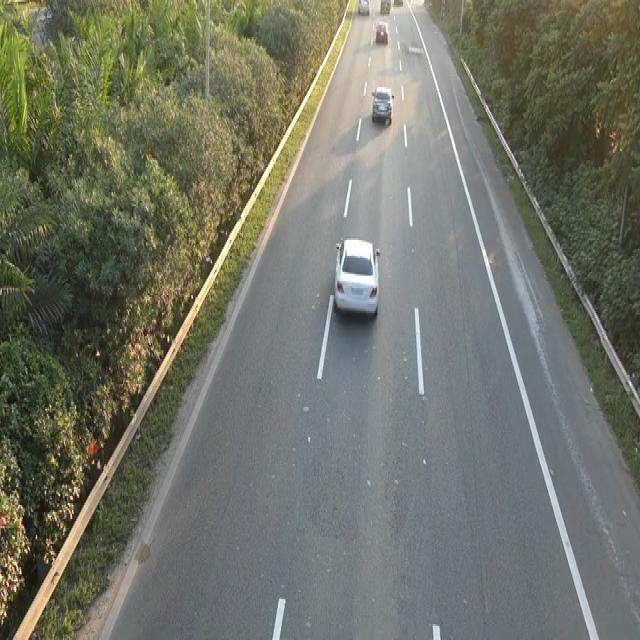bus: (331, 233, 382, 320), (369, 82, 397, 132)
